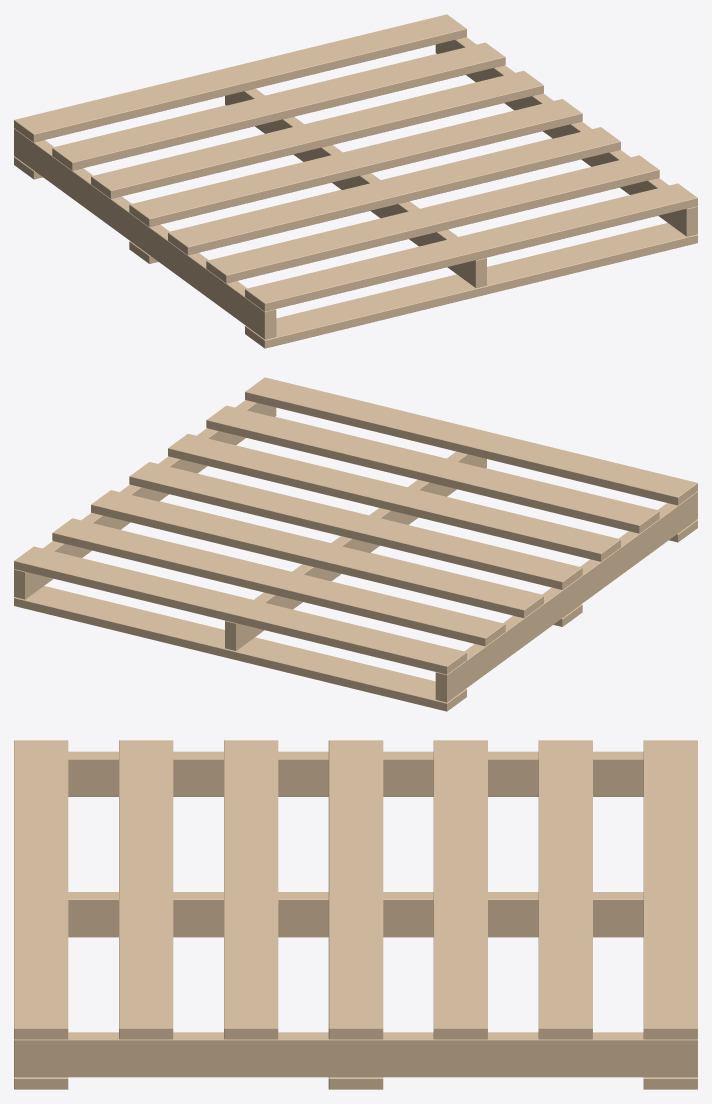
Rendered from sweethome3d-blendswap-cc-0-pallet.glb.
3 renders of one model, top to bottom at view 1: azimuth 30°, elevation 25°; view 2: azimuth 150°, elevation 25°; view 3: azimuth 270°, elevation 25°, orthographic. The views are drawn at different scales.
Parts seen in each view (by area): view 1: Cube, Cube.001, Cube.003; view 2: Cube, Cube.001, Cube.003; view 3: Cube, Cube.001, Cube.003.
Part boxes in pixels (x1=…): Cube: x1=14, y1=14, x2=697, y2=311; Cube.001: x1=14, y1=37, x2=697, y2=339; Cube.003: x1=14, y1=54, x2=697, y2=348; Cube: x1=14, y1=377, x2=697, y2=674; Cube.001: x1=14, y1=400, x2=697, y2=702; Cube.003: x1=14, y1=417, x2=697, y2=711; Cube: x1=14, y1=740, x2=697, y2=1039; Cube.001: x1=14, y1=751, x2=697, y2=1077; Cube.003: x1=14, y1=1077, x2=697, y2=1089.
Bounding box in the file's own units: 120 × 11.99 × 120.
